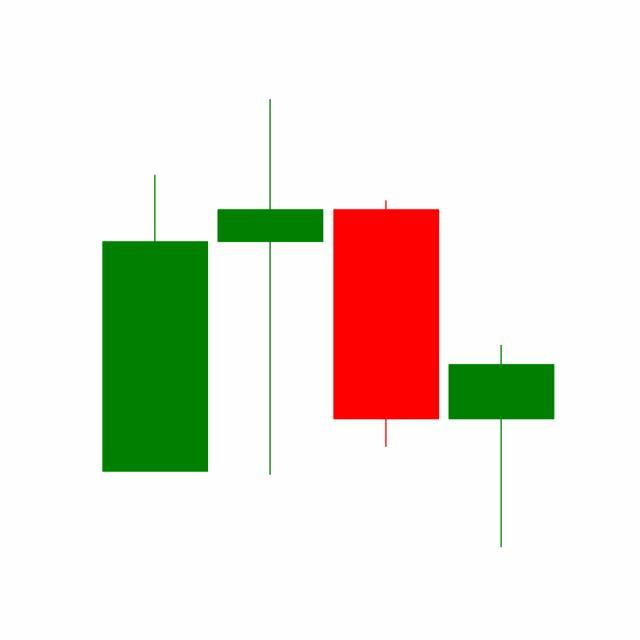Marubozu: (329, 198, 445, 451)
